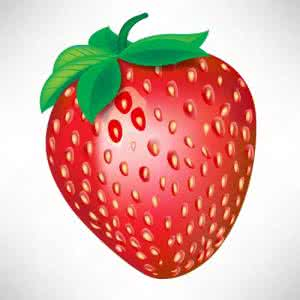strawberry: (41, 16, 259, 278)
